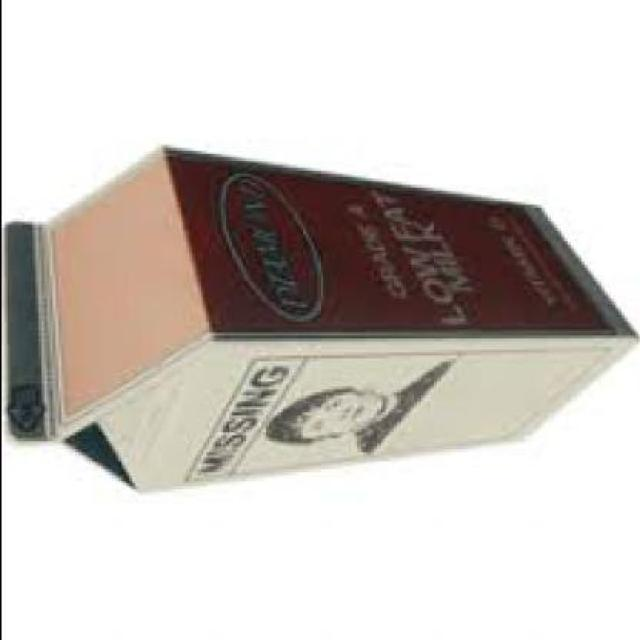CARDBOARD: (1, 147, 637, 498)
